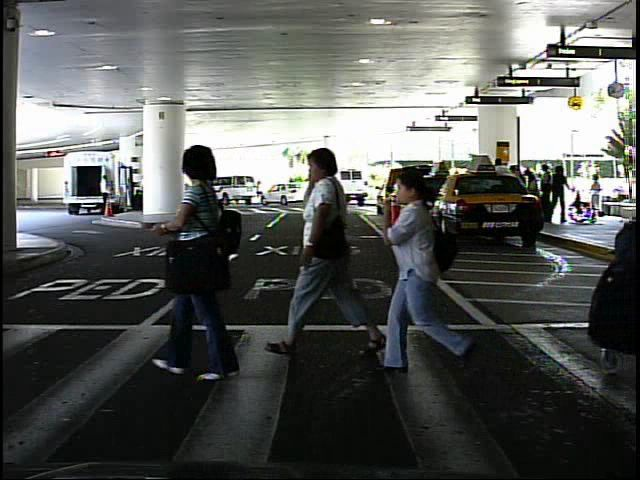person: (150, 139, 268, 387), (372, 160, 482, 381), (288, 138, 382, 360), (588, 173, 607, 218), (97, 172, 115, 199), (254, 177, 265, 204)
